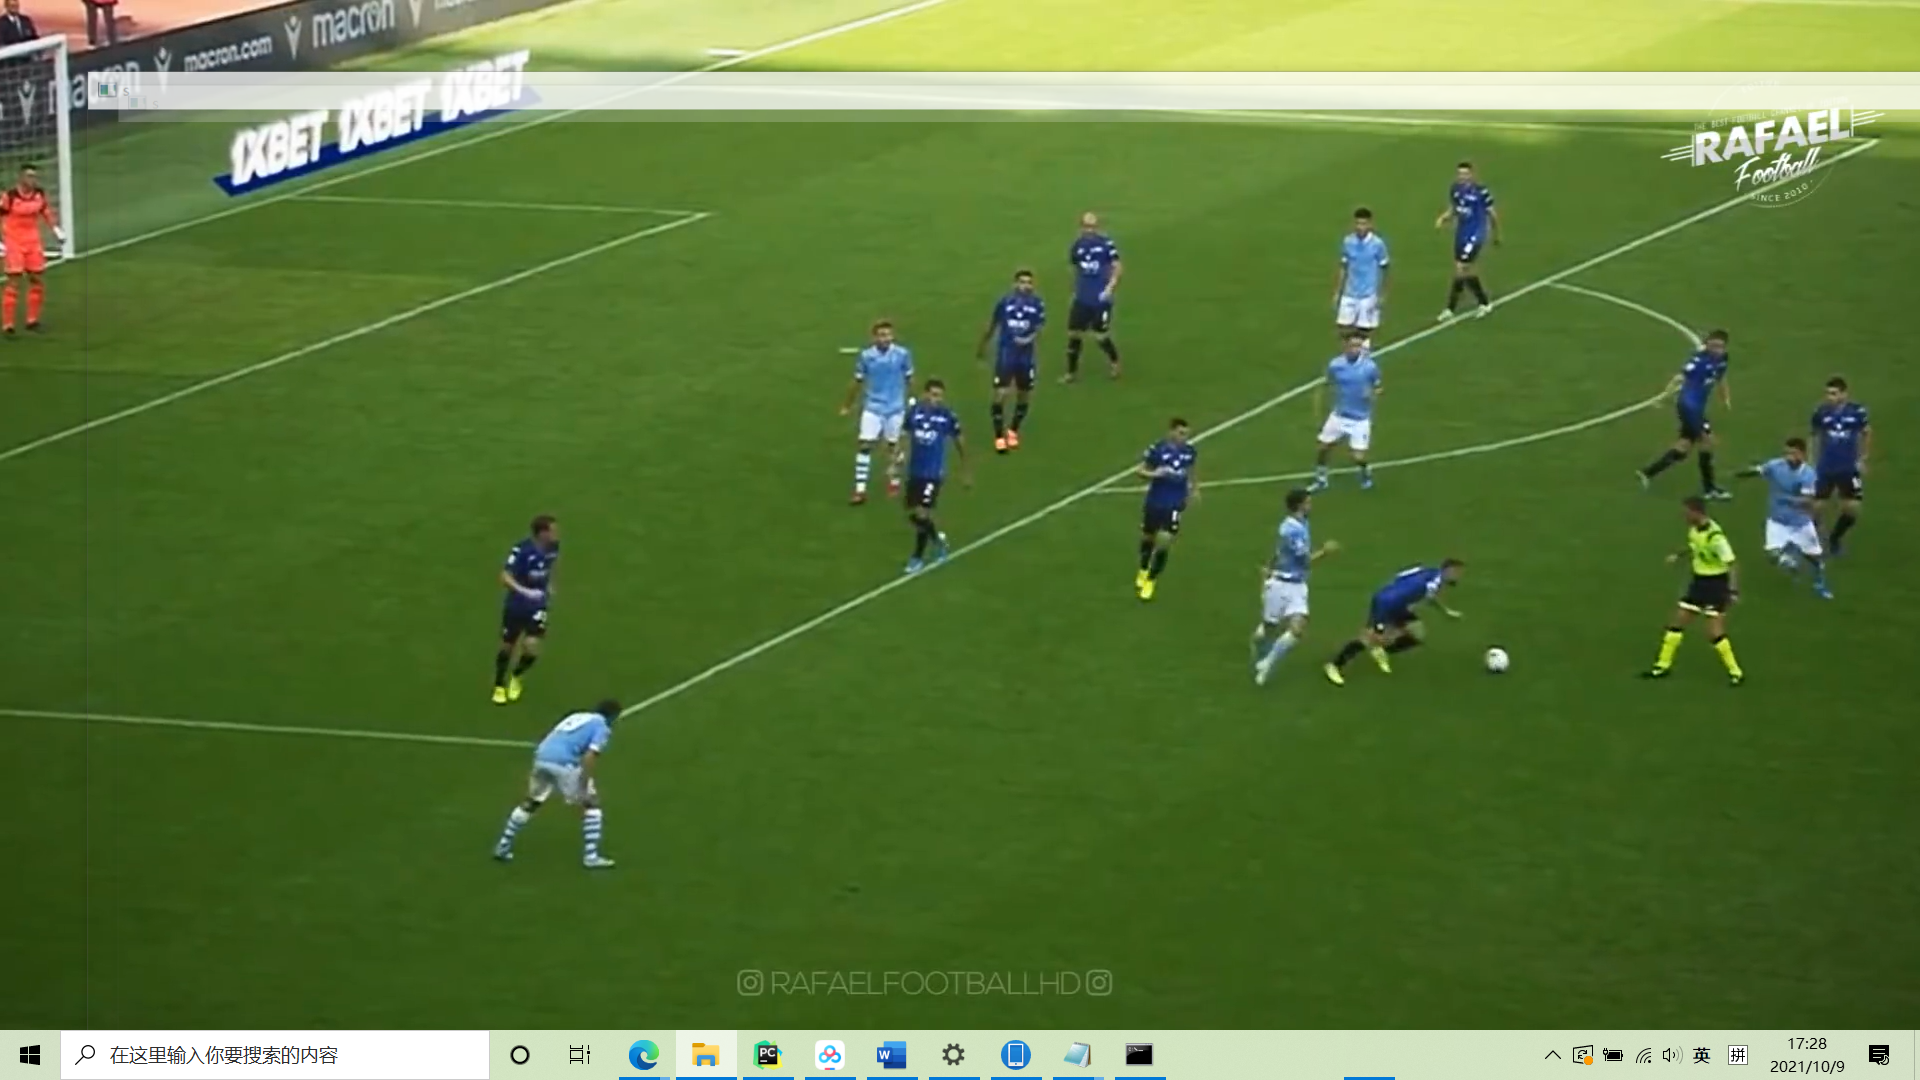ft: (1478, 641, 1513, 679)
